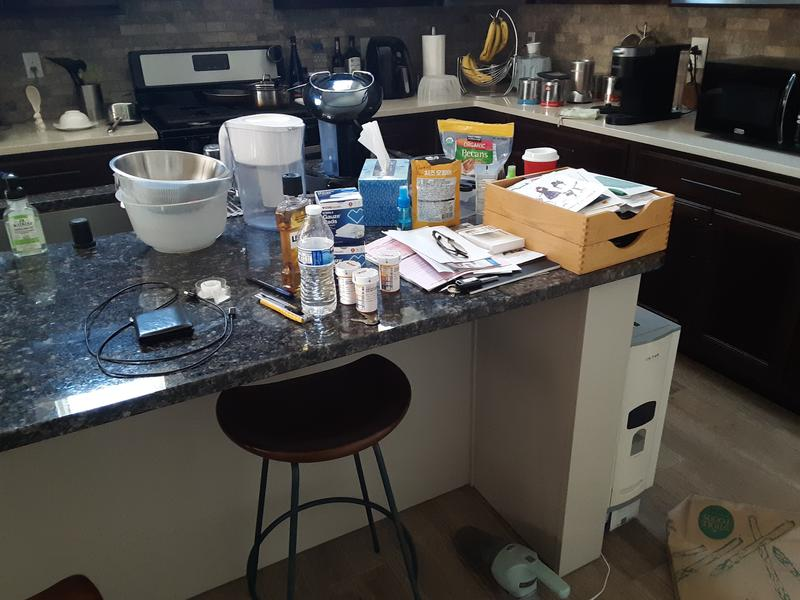glasses: (432, 230, 469, 260)
